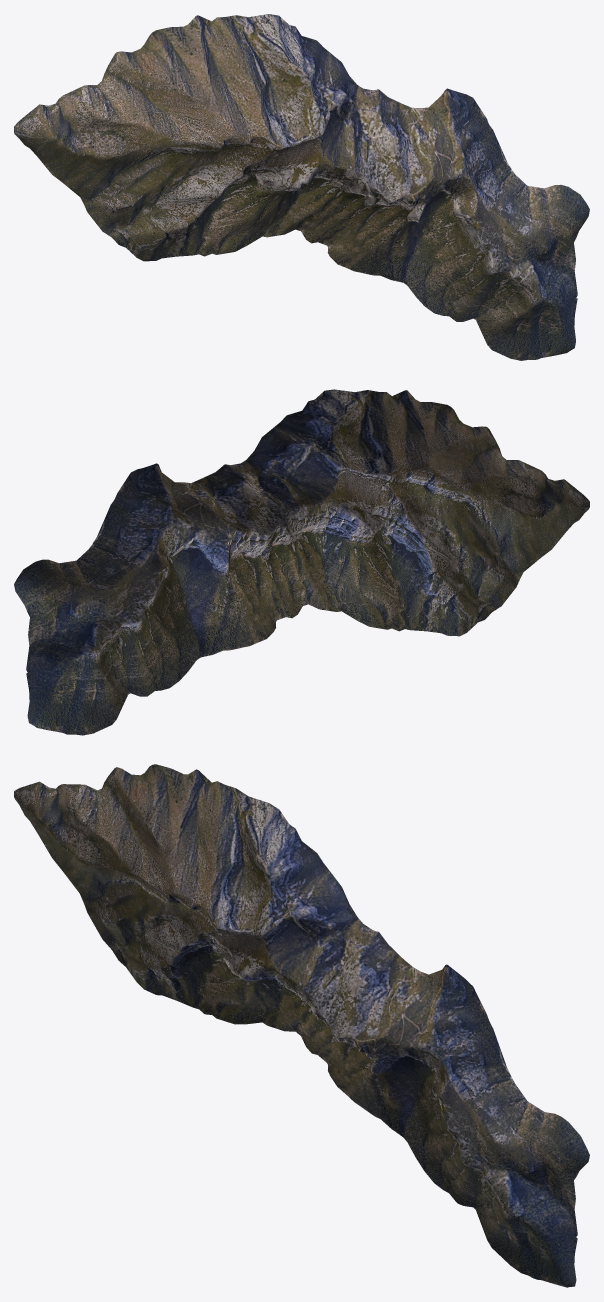
File: hd_out_EU_001_Seacliffs_huge_02.fbx
3 views of the same model, one above another, from view 1: azimuth 30°, elevation 25°; view 2: azimuth 150°, elevation 25°; view 3: azimuth 330°, elevation 25° (orthographic).
Parts seen in each view (by area): view 1: set_0_group_0; view 2: set_0_group_0; view 3: set_0_group_0.
Part boxes in pixels (box(x1,y1,x2,y2)): set_0_group_0: box(14, 14, 589, 360); set_0_group_0: box(14, 389, 589, 735); set_0_group_0: box(14, 764, 589, 1287).
Size of the model in its own units: 291393 by 206865 by 29584.
1 material, 1 textured.
